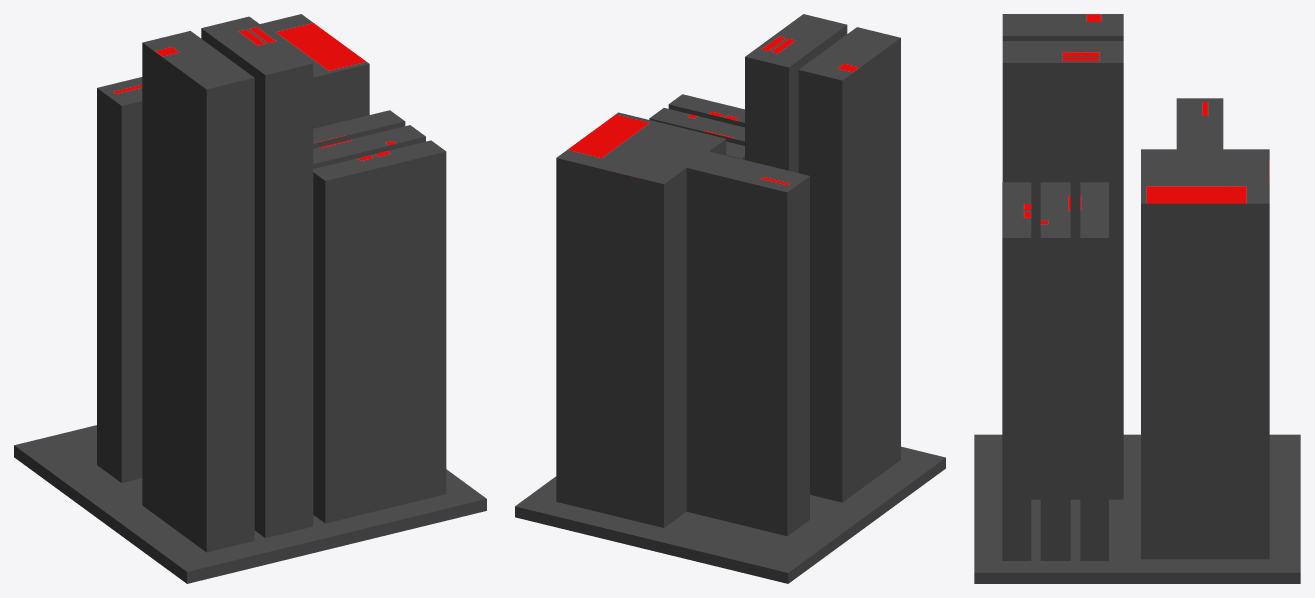
The model's file is block_0_low.FBX.
The picture shows the model from 3 angles, left to right: view 1: azimuth 30°, elevation 25°; view 2: azimuth 150°, elevation 25°; view 3: azimuth 270°, elevation 25°; orthographic projection. The views are drawn at different scales.
Parts seen in each view (by area): view 1: Plane01; view 2: Plane01; view 3: Plane01.
Boxes of the visible parts, x1,y1,x2,y2 form: Plane01: (14,14,486,583); Plane01: (515,14,945,583); Plane01: (974,14,1300,583).
Bounding box in the file's own units: 78.13 × 118 × 78.13.
